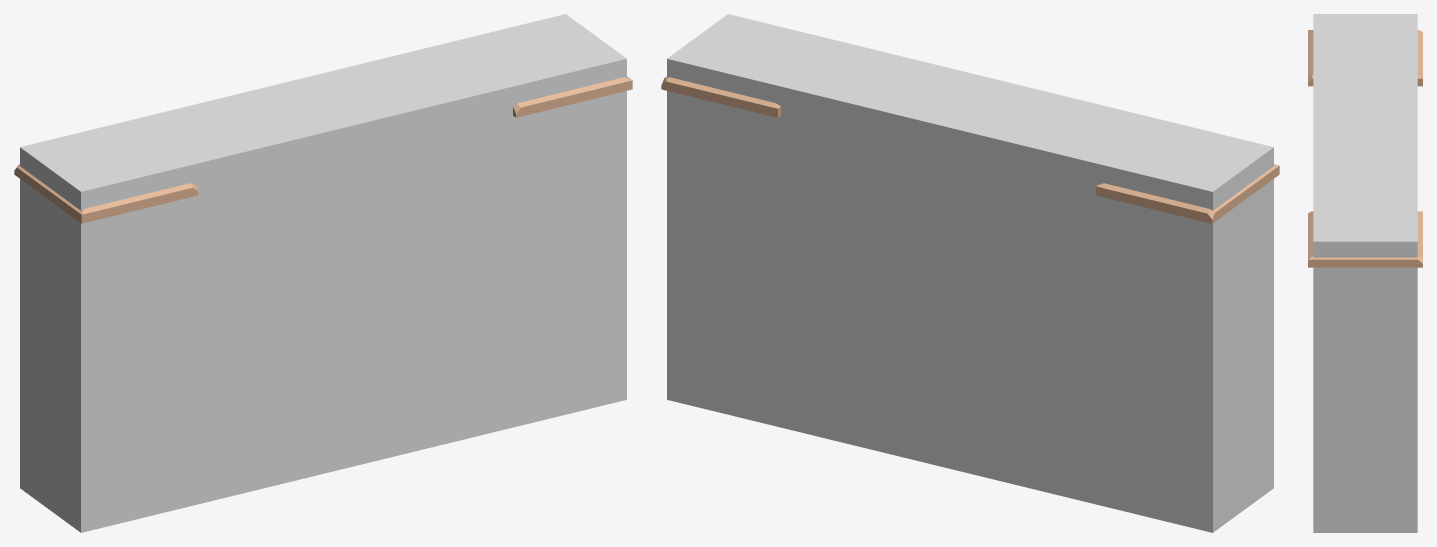
Rendered from FenceEnd.gltf.
The picture shows the model from 3 angles, left to right: view 1: azimuth 30°, elevation 25°; view 2: azimuth 150°, elevation 25°; view 3: azimuth 270°, elevation 25°; orthographic projection. The views are drawn at different scales.
Visible parts, largest first — view 1: COL, FenceEnd; view 2: COL, FenceEnd; view 3: COL, FenceEnd.
Boxes of the visible parts, x1,y1,x2,y2 form: COL: (20,14,626,532); FenceEnd: (14,76,632,223); COL: (667,14,1273,532); FenceEnd: (661,76,1279,223); COL: (1313,14,1417,532); FenceEnd: (1308,30,1422,267).
Size of the model in its own units: 1.35 by 0.8 by 0.286.
